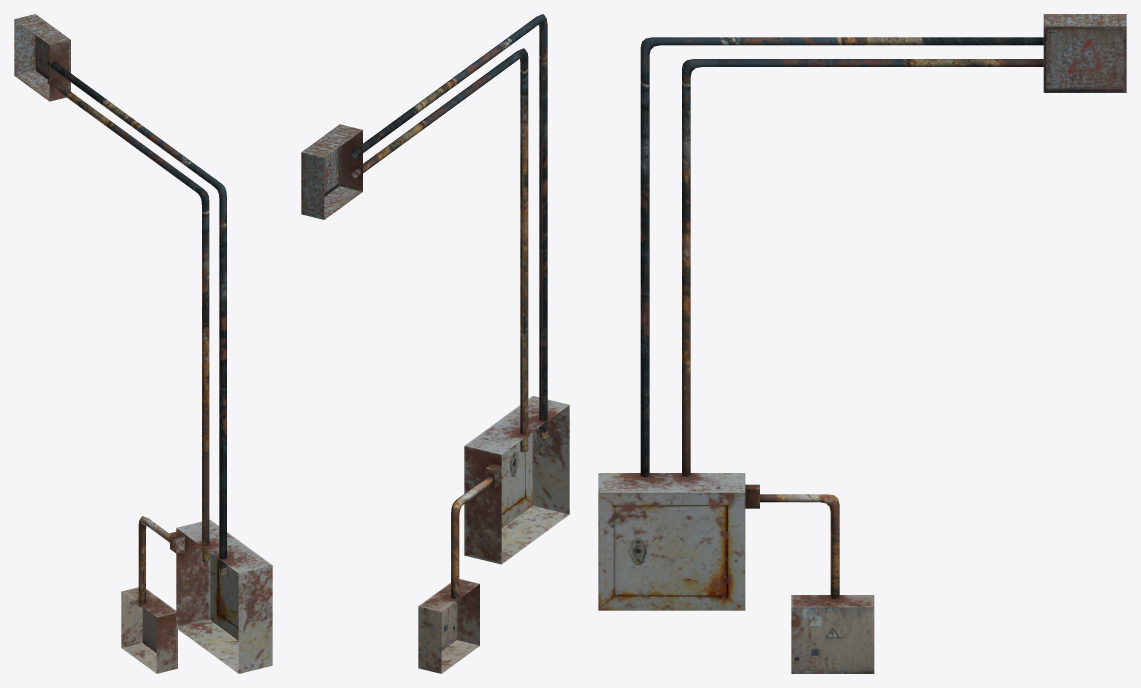
Rendered from FuseBoxes_02.FBX.
3 renders of one model, left to right at view 1: azimuth 30°, elevation 25°; view 2: azimuth 150°, elevation 25°; view 3: azimuth 270°, elevation 25°, orthographic. The views are drawn at different scales.
Visible parts, largest first — view 1: FuseBoxes_02; view 2: FuseBoxes_02; view 3: FuseBoxes_02.
Boxes of the visible parts, x1,y1,x2,y2 form: FuseBoxes_02: (14,14,272,673); FuseBoxes_02: (301,14,569,673); FuseBoxes_02: (598,14,1126,673).
Size of the model in its own units: 15.62 by 242 by 179.
